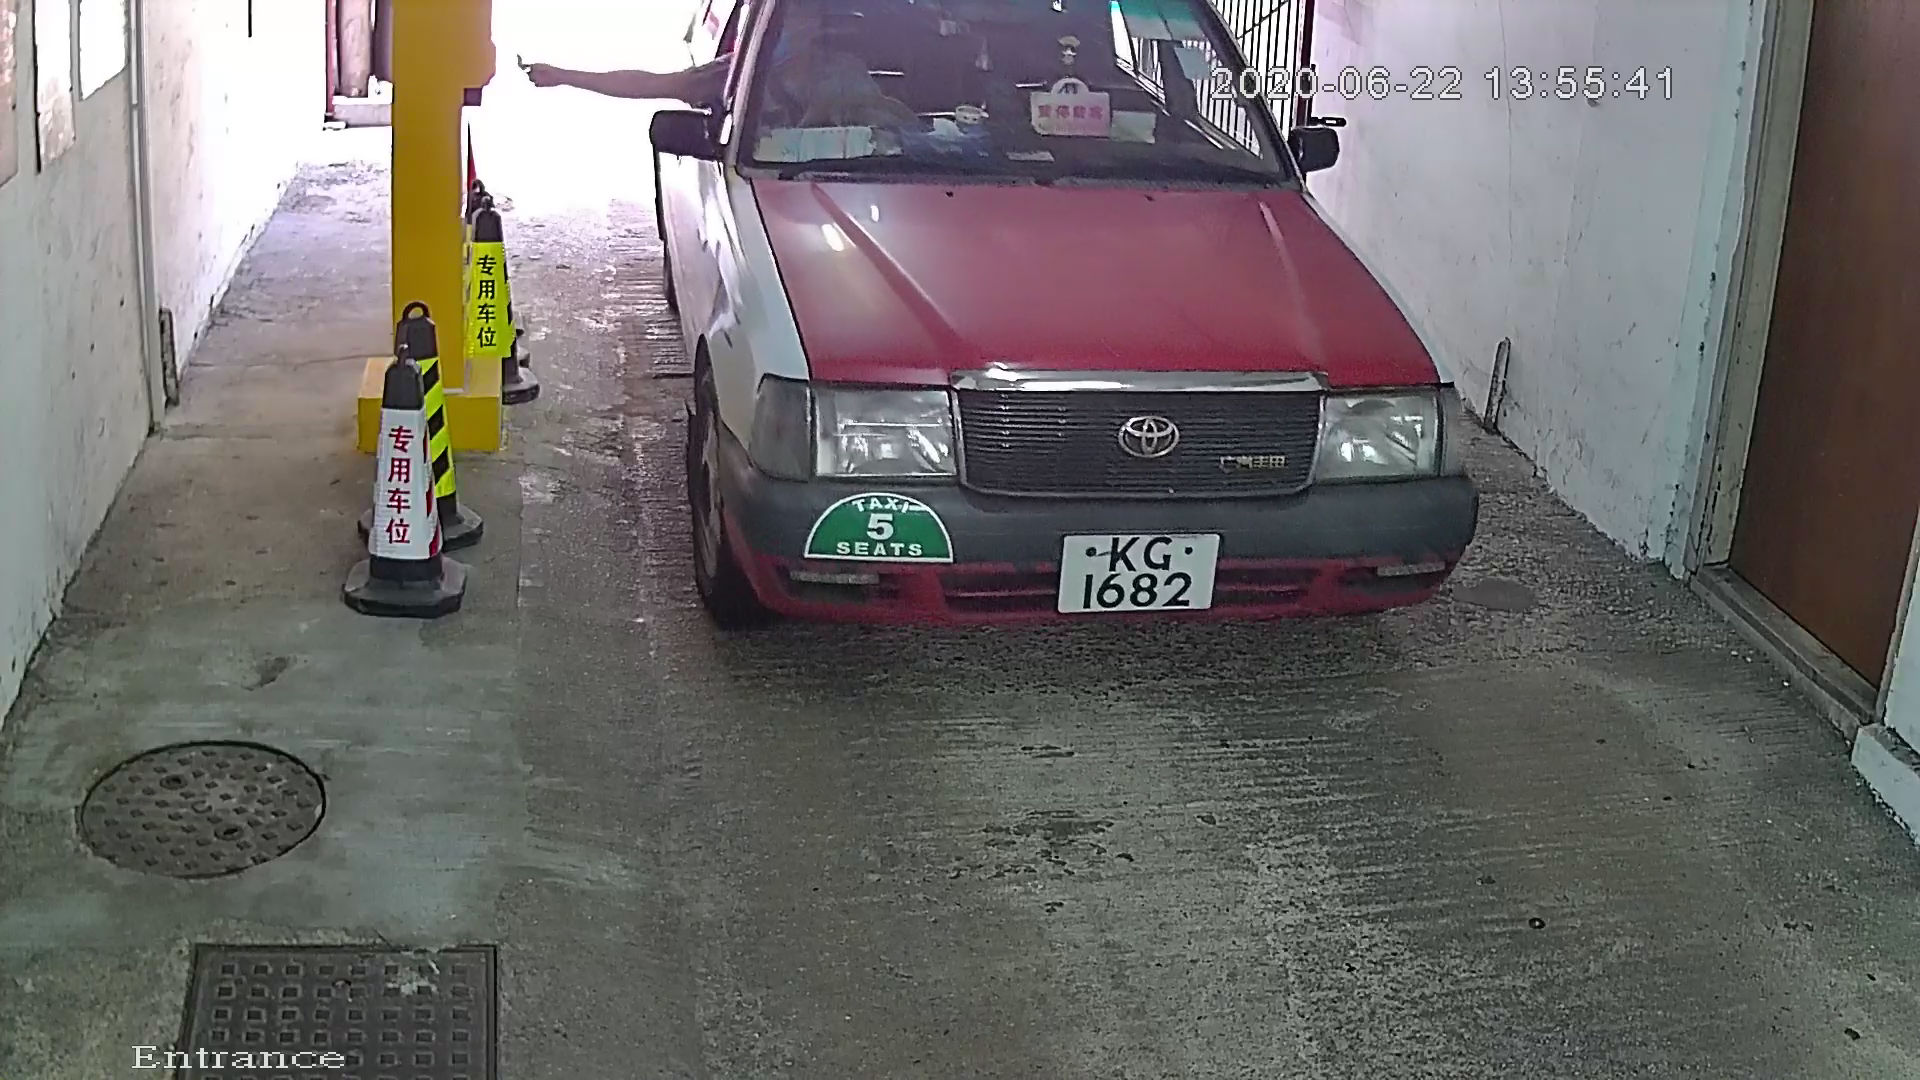taxi: (608, 1, 1478, 746)
taxi_mark: (782, 469, 1000, 593)
